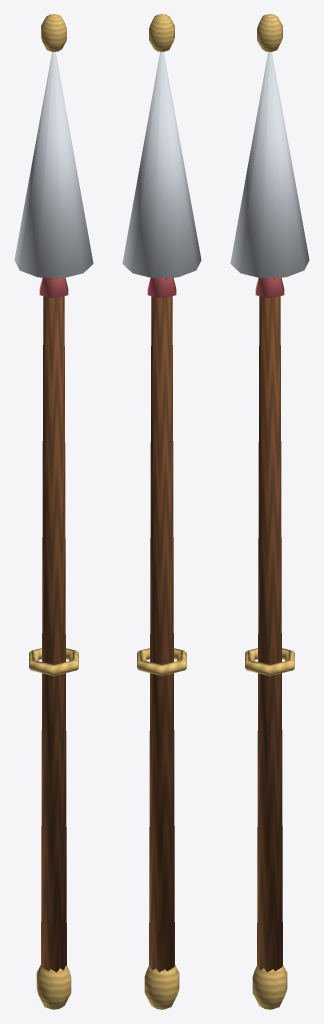
The model's file is weapon_spear.glb.
The picture shows the model from 3 angles, left to right: view 1: azimuth 30°, elevation 25°; view 2: azimuth 150°, elevation 25°; view 3: azimuth 330°, elevation 25°; orthographic projection.
Visible parts, largest first — view 1: SpearMesh; view 2: SpearMesh; view 3: SpearMesh.
Part boxes in pixels (x1=…): SpearMesh: x1=14, y1=14, x2=93, y2=1009; SpearMesh: x1=122, y1=14, x2=201, y2=1009; SpearMesh: x1=230, y1=14, x2=309, y2=1009.
Bounding box in the file's own units: 0.17 × 2.35 × 0.1617.
4 materials, 2 textured.
